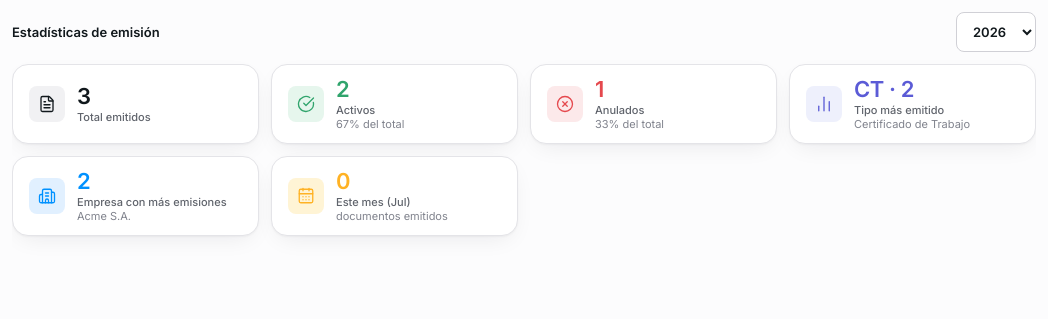
Test: popover por tipo › closes with the Escape key
Click the button "CT · 2 Tipo más emitido Certificado de Trabajo" at (912, 104), box [789,64,1036,144]
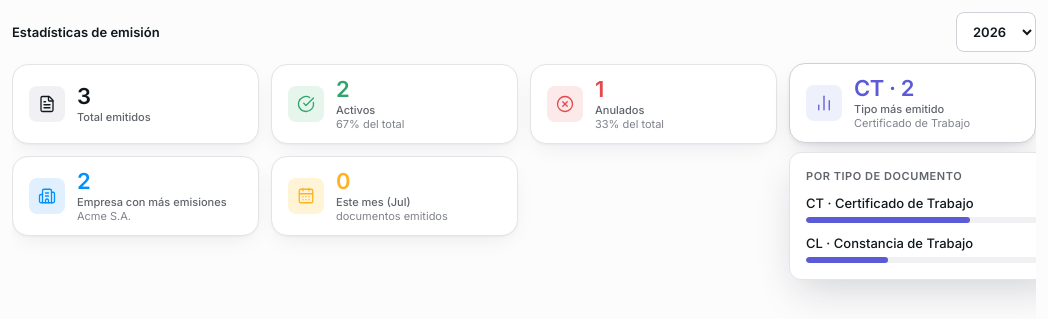
Press Escape in the element "Por tipo de documento", box [789,152,1036,280]
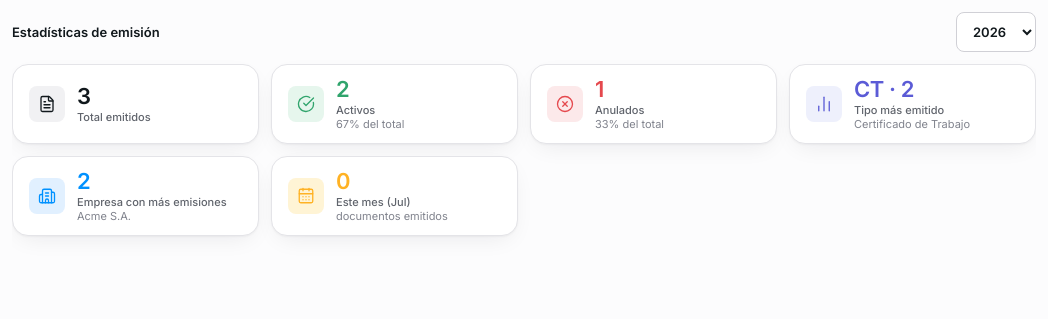
Now the text "Por tipo de documento" is gone
